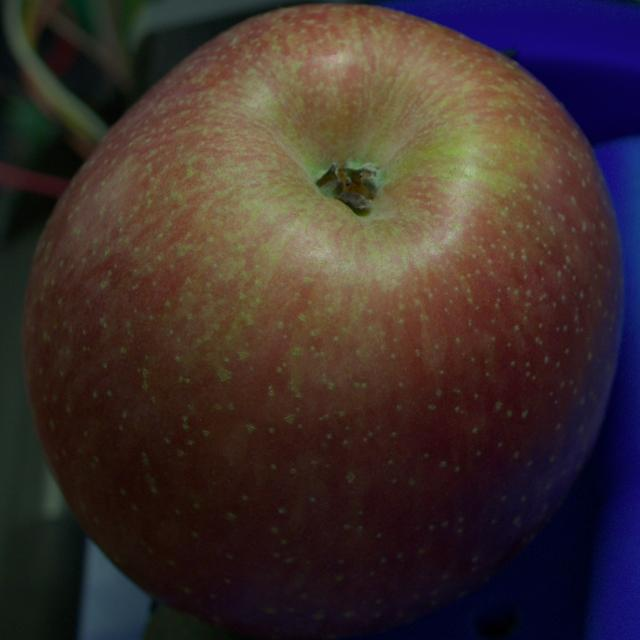apple: (24, 5, 622, 639)
